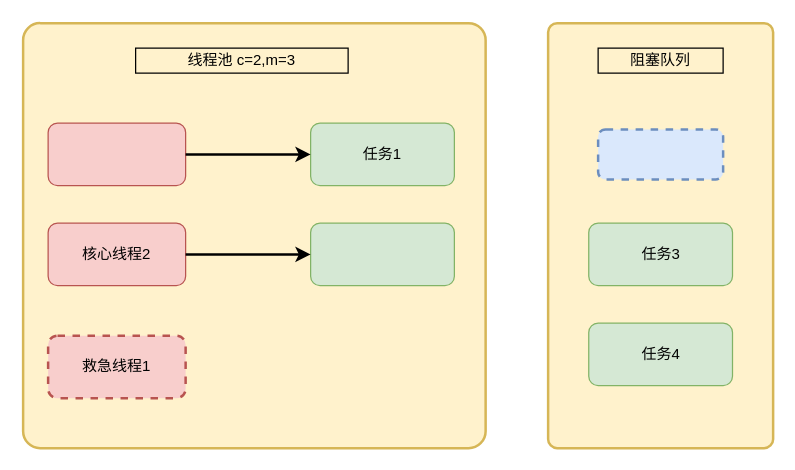
Some shapes in this 795 by 470 pixel diagram are drawn without their labels. The centre of each missing label's shape, as x and y in pixels:
"size=2" goes at point 660,154.
"任务2" goes at point 381,254.
"核心线程1" goes at point 116,154.
